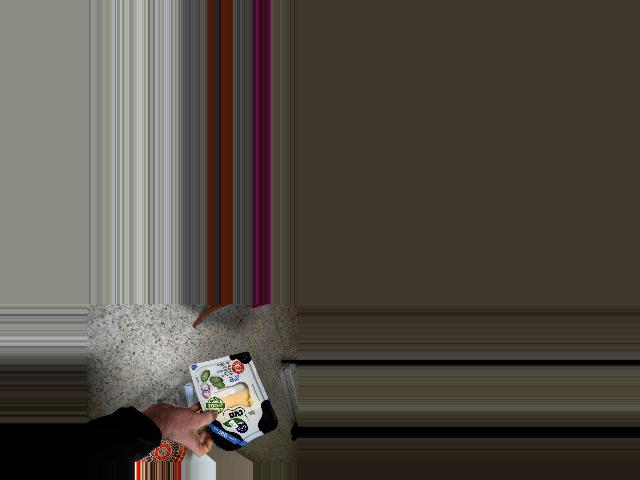cheese: (203, 352, 271, 454)
